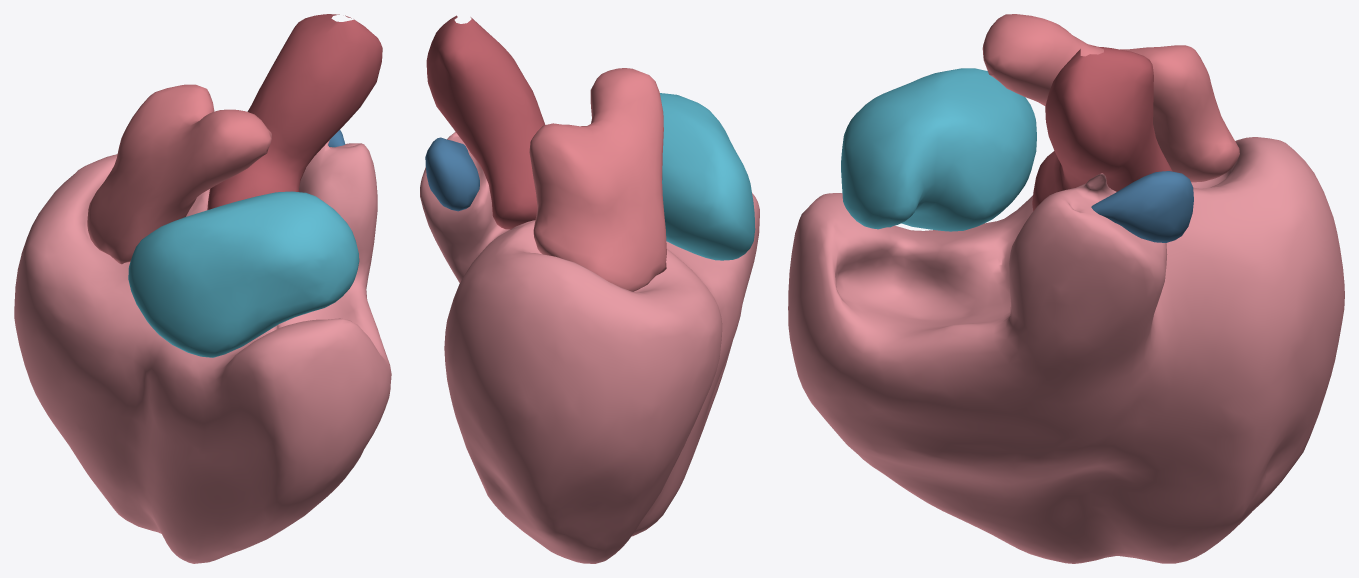
The model's file is frame_56.glb.
The picture shows the model from 3 angles, left to right: view 1: azimuth 30°, elevation 25°; view 2: azimuth 150°, elevation 25°; view 3: azimuth 270°, elevation 25°; orthographic projection. The views are drawn at different scales.
Visible parts, largest first — view 1: Renderer Node; view 2: Renderer Node; view 3: Renderer Node.
Part boxes in pixels (<box>): Renderer Node: <box>14,14,391,563</box>; Renderer Node: <box>420,15,759,563</box>; Renderer Node: <box>788,14,1344,563</box>.
Size of the model in its own units: 107 by 164 by 137.
